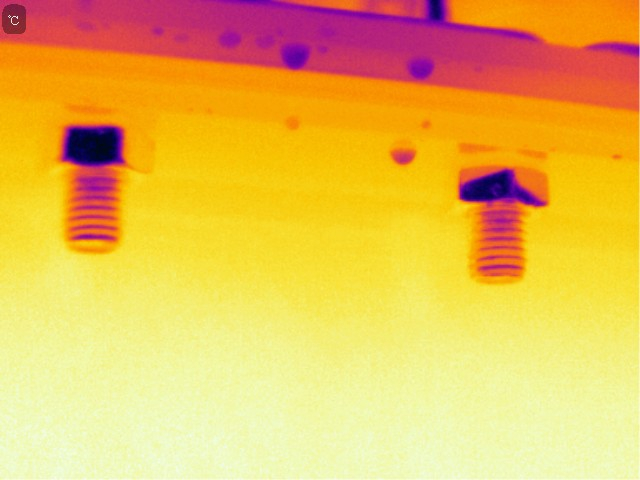Water: (275, 41, 319, 74), (379, 135, 424, 167), (396, 54, 440, 80)
